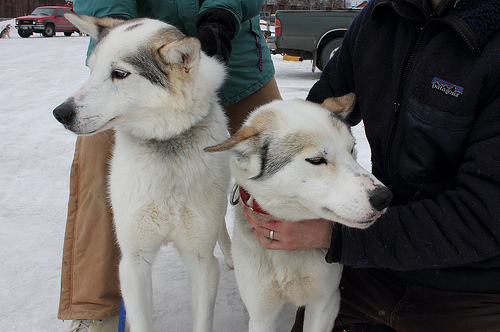dog: (51, 17, 235, 330), (201, 91, 394, 331)
